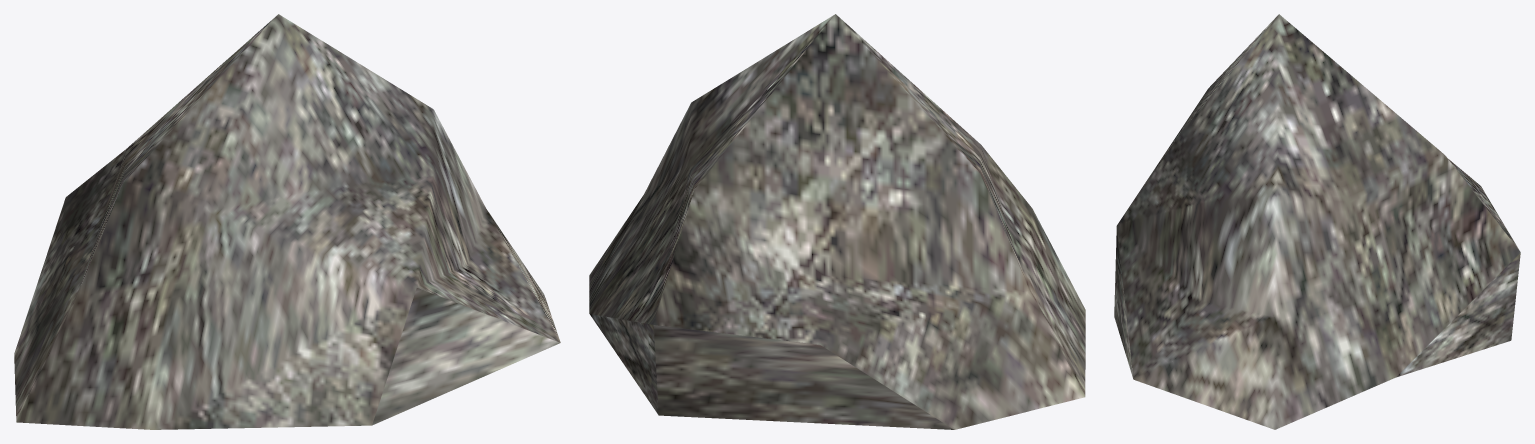
File: wrld_rock_highland1.glb
The picture shows the model from 3 angles, left to right: view 1: azimuth 30°, elevation 25°; view 2: azimuth 150°, elevation 25°; view 3: azimuth 270°, elevation 25°; orthographic projection. The views are drawn at different scales.
Parts seen in each view (by area): view 1: wrld_rock_highland1; view 2: wrld_rock_highland1; view 3: wrld_rock_highland1.
Part boxes in pixels (box(x1,y1,x2,y2)): wrld_rock_highland1: box(14, 14, 560, 429); wrld_rock_highland1: box(589, 14, 1085, 429); wrld_rock_highland1: box(1114, 14, 1520, 429).
Size of the model in its own units: 2.69 by 1.67 by 2.04.
1 material, 1 textured.
